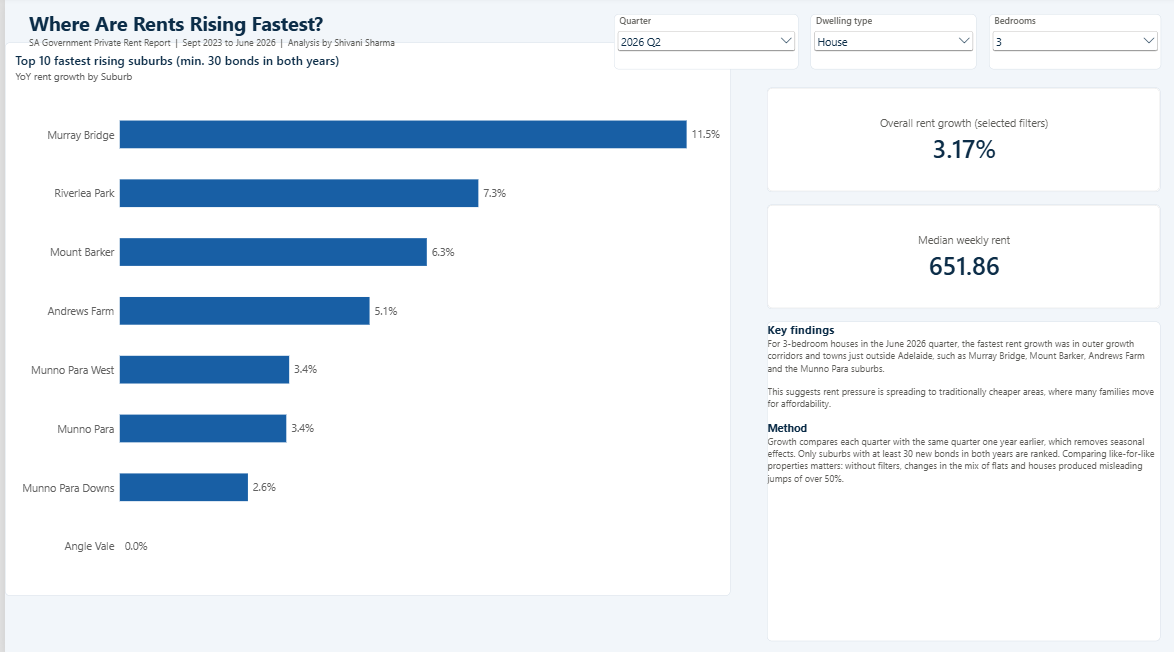

Layout of this report page (visuals, bound fields, positions):
{"tool":"powerbi","page":{"name":"Rent Growth","canvas":[1920,1080],"ordinal":1},"visuals":[{"type":"cardVisual","fields":{"Data":["Measure_details.Rent YoY Growth %"]},"box":[1240,150,640,170],"z":10},{"type":"cardVisual","fields":{"Data":["Measure_details.Weighted Median Rent"]},"box":[1240,340,640,170],"z":11},{"type":"clusteredBarChart","title":"Top 10 fastest rising suburbs (min. 30 bonds in both years)","fields":{"Category":["Rent.Suburb"],"Y":["Measure_details.Reliable YoY Growth %"]},"box":[40,150,1180,900],"z":20},{"type":"textbox","box":[1240,530,640,520],"z":30},{"type":"textbox","box":[40,22,900,110],"z":100},{"type":"slicer","fields":{"Values":["Date.Year Quarter"]},"box":[990,30,300,90],"z":200},{"type":"slicer","fields":{"Values":["Rent.Dwelling Type"]},"box":[1310,30,270,90],"z":201},{"type":"slicer","fields":{"Values":["Rent.Bedrooms"]},"box":[1600,30,280,90],"z":202}]}

Visuals, with their boxes in screenshot pixels (x1, y1, x2, y2), scaled from the page's 1920x1080 canvas onto the 1174x652 screenshot:
cardVisual - Measure_details.Rent YoY Growth %: <box>758,91,1150,193</box>
cardVisual - Measure_details.Weighted Median Rent: <box>758,205,1150,308</box>
"Top 10 fastest rising suburbs (min. 30 bonds in both years)" clusteredBarChart: <box>24,91,746,634</box>
textbox: <box>758,320,1150,634</box>
textbox: <box>24,13,575,80</box>
slicer - Date.Year Quarter: <box>605,18,789,72</box>
slicer - Rent.Dwelling Type: <box>801,18,966,72</box>
slicer - Rent.Bedrooms: <box>978,18,1150,72</box>
